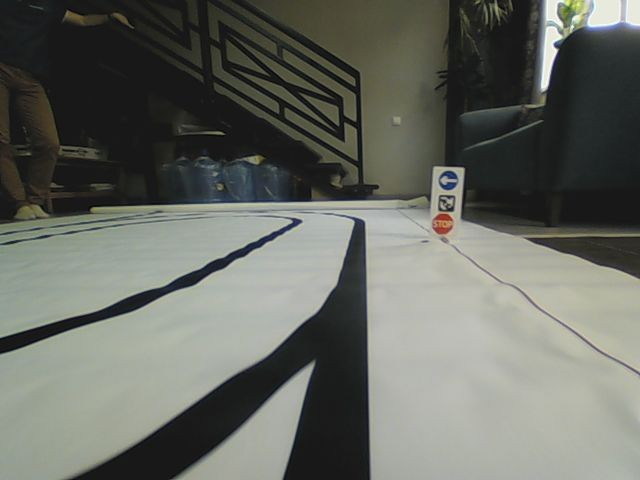Stop: (431, 213, 454, 236)
